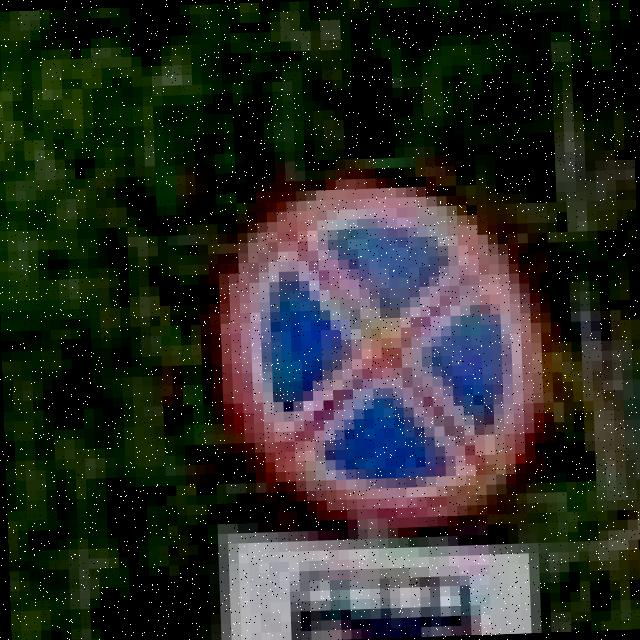Zakaz zatrzymywania sie: (205, 172, 547, 534)
